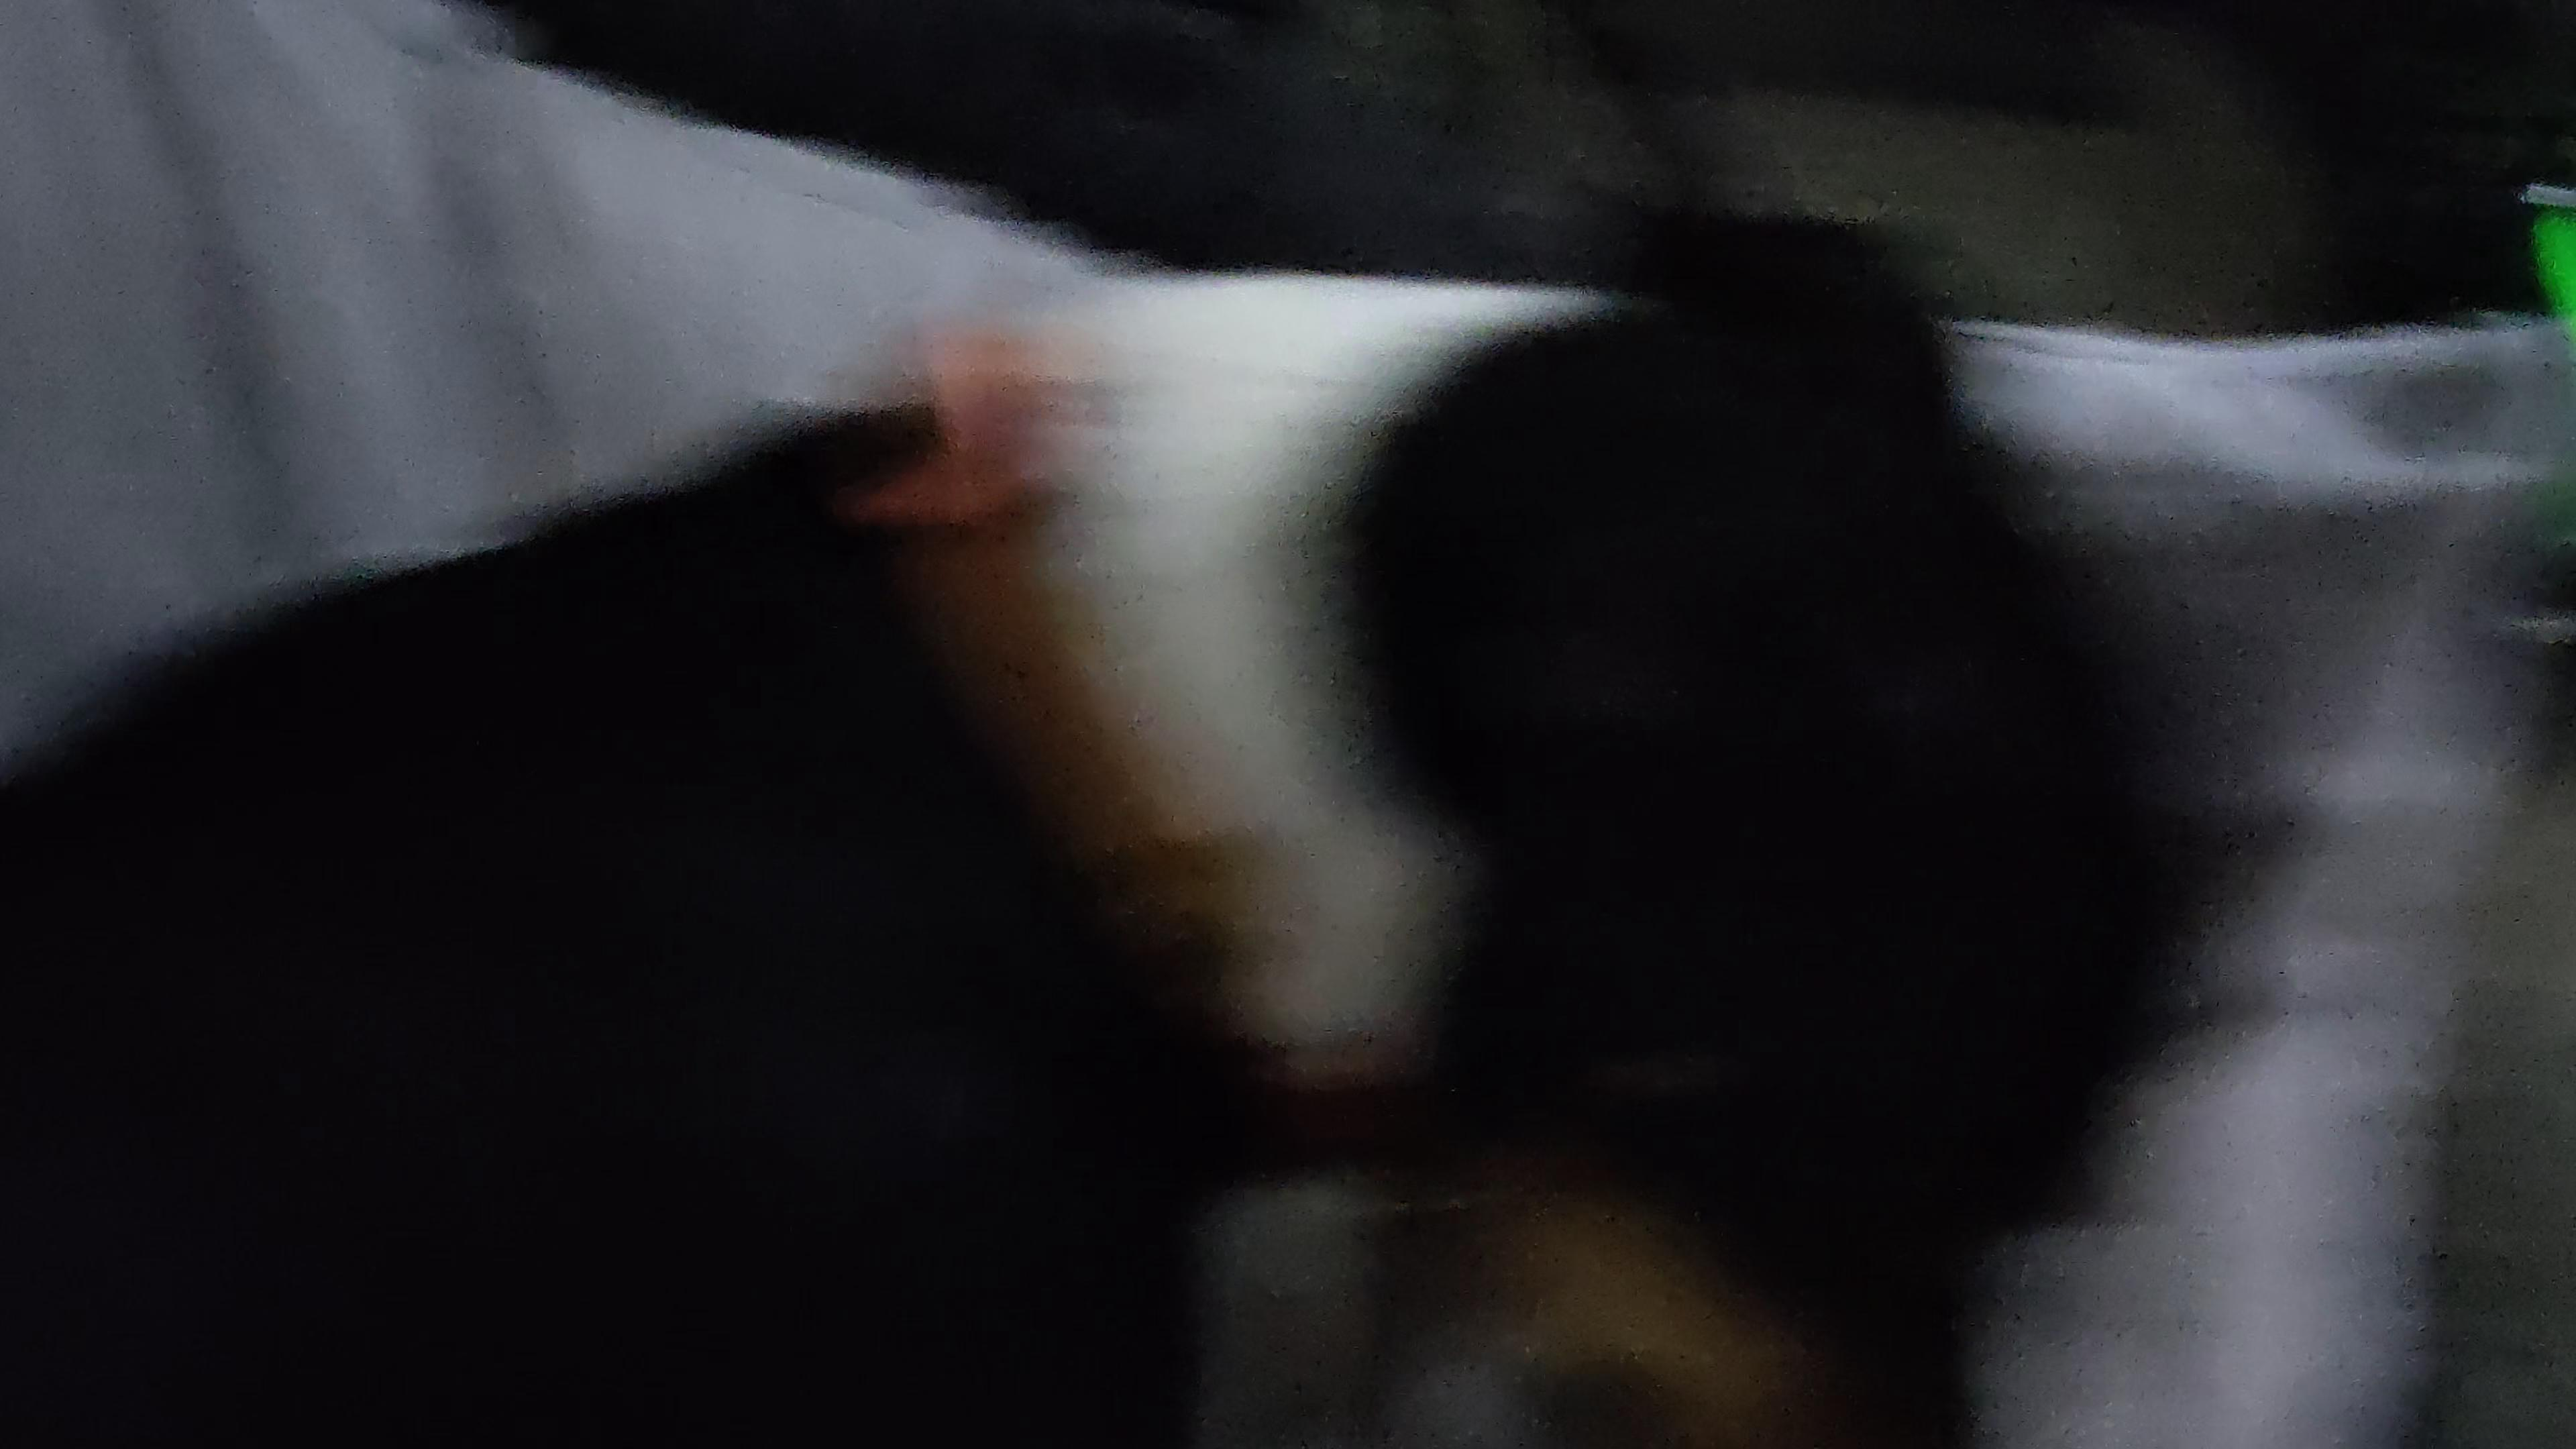Dog: (0, 133, 2212, 1449)
